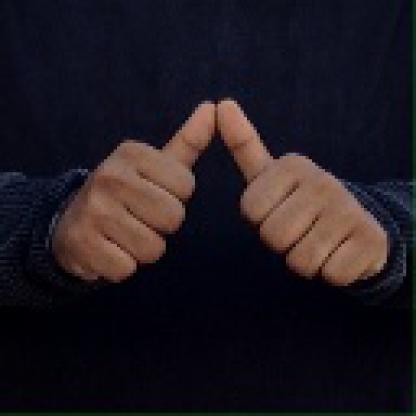A: (58, 101, 382, 291)
